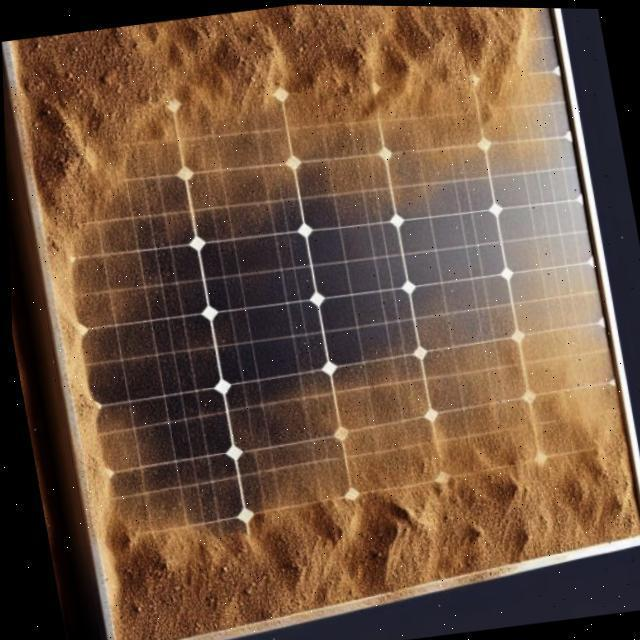Anomaly Solar Panel: (9, 3, 640, 640)
Surface Contaminant: (8, 3, 640, 640)
